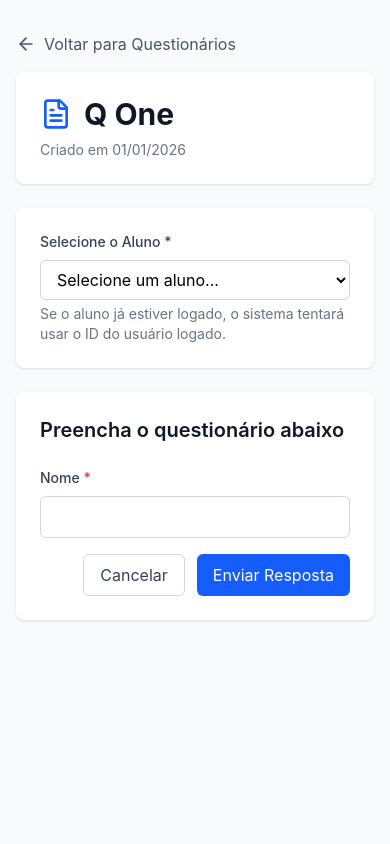
Scenario: AnswerQuestionnaire › submits the response and shows success
Select "Aluno Z (z@y.com)" in the dropdown. click: (195, 280)
box: 40,260 -> 350,300
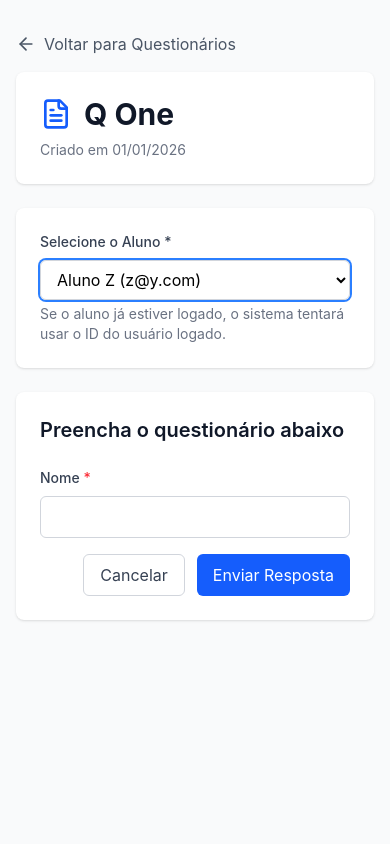
Type "João" into the field. click: (195, 517)
box: 40,496 -> 350,538
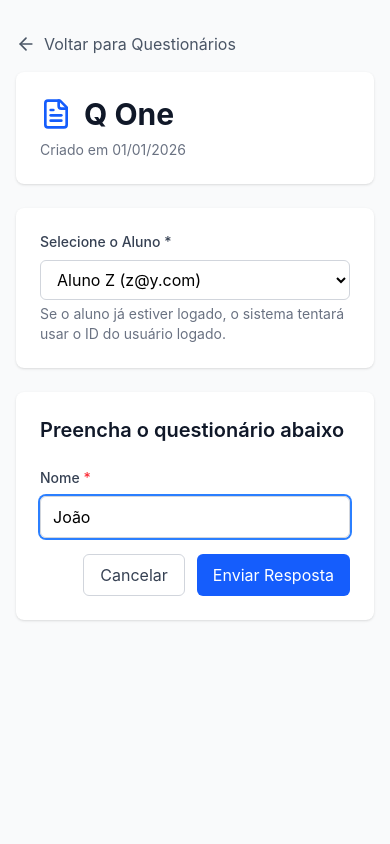
Click the button "Enviar Resposta". click: (273, 575)
box: 197,554 -> 350,596
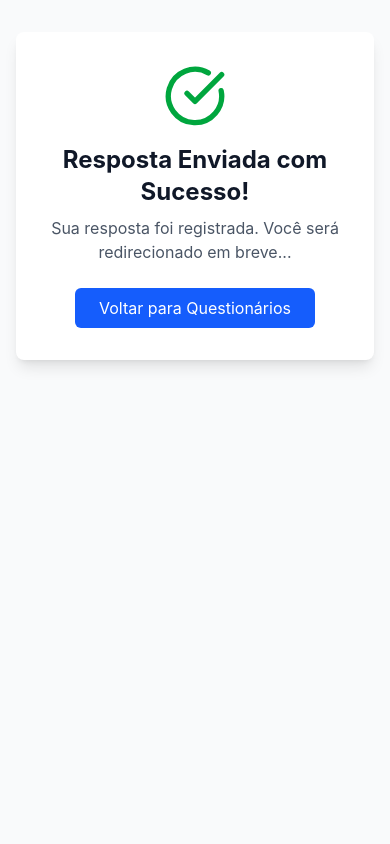
Expected: the heading "Resposta Enviada com Sucesso!" is shown, 48,144 -> 342,208
